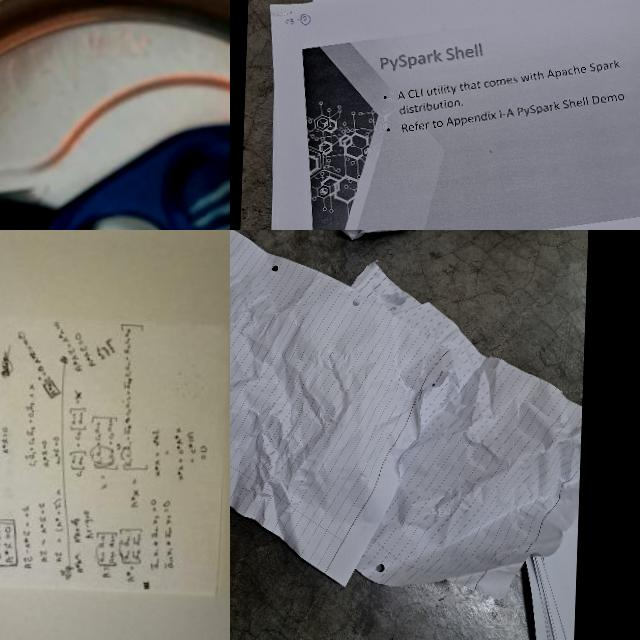aba de lata: (26, 109, 230, 230)
lata: (0, 0, 230, 230)
papel: (260, 0, 640, 230), (339, 255, 587, 592), (230, 230, 459, 589), (0, 307, 226, 590), (520, 554, 576, 640)
